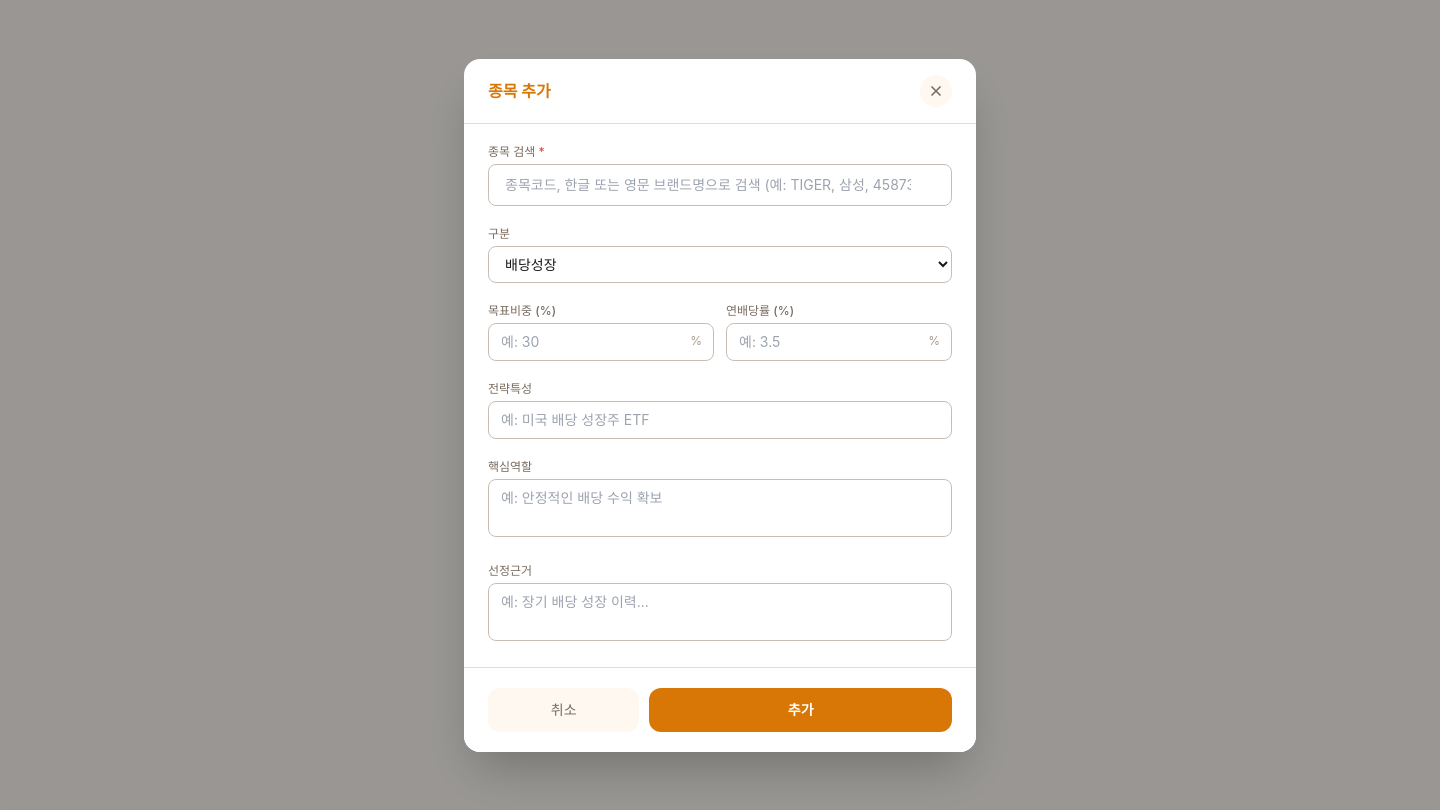
Test: AddStockModal - 추가 모드 › 종목 미선택 시 에러 표시
This screenshot has width=1440, height=810.
Click the button "추가" at (801, 710), box [649,688,952,732]
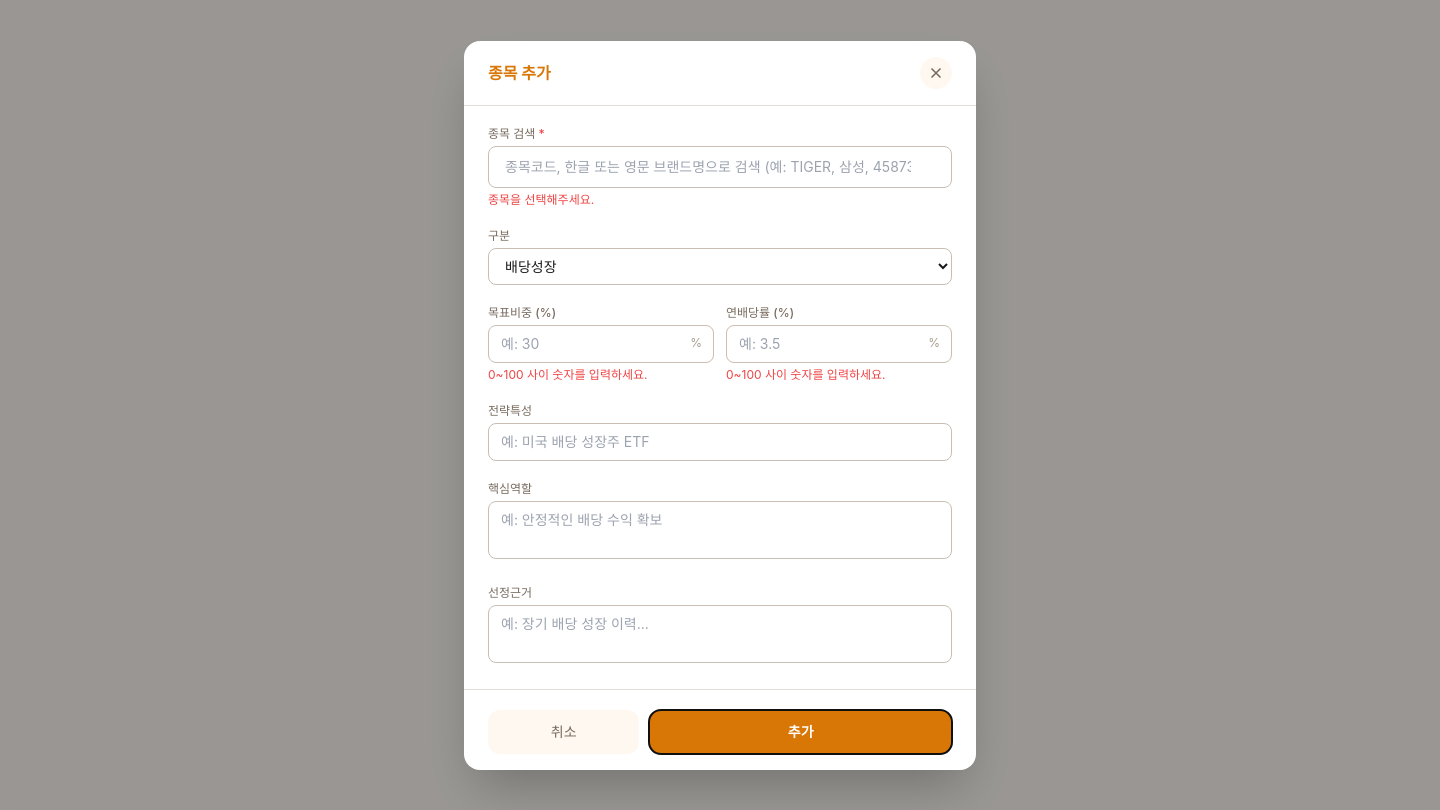
Expected: the text "종목을 선택해주세요." is shown, [488,192,594,206]
